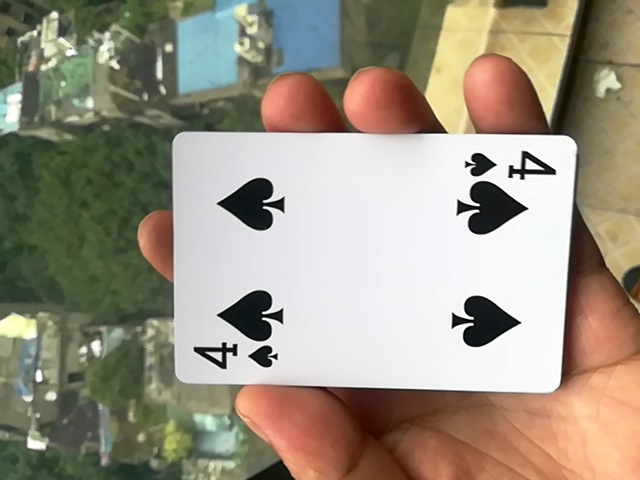ht 4: (159, 129, 569, 402)
